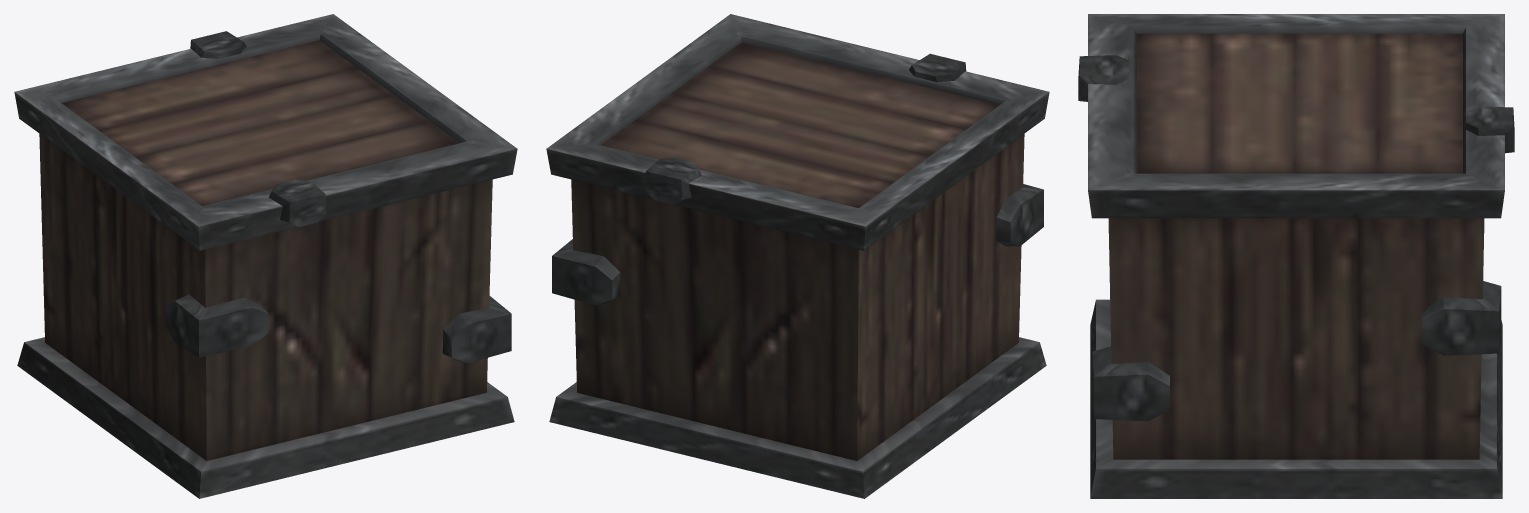
File: SM_EN_2005_muxiang01.FBX
3 views of the same model, side by side, from view 1: azimuth 30°, elevation 25°; view 2: azimuth 150°, elevation 25°; view 3: azimuth 270°, elevation 25° (orthographic). The views are drawn at different scales.
Parts seen in each view (by area): view 1: SM_EN_2005_muxiang01; view 2: SM_EN_2005_muxiang01; view 3: SM_EN_2005_muxiang01.
Boxes of the visible parts, <box> form: SM_EN_2005_muxiang01: <box>14,14,517,498</box>; SM_EN_2005_muxiang01: <box>546,14,1049,498</box>; SM_EN_2005_muxiang01: <box>1078,14,1514,498</box>.
Size of the model in its own units: 38.11 by 31.83 by 39.85.
